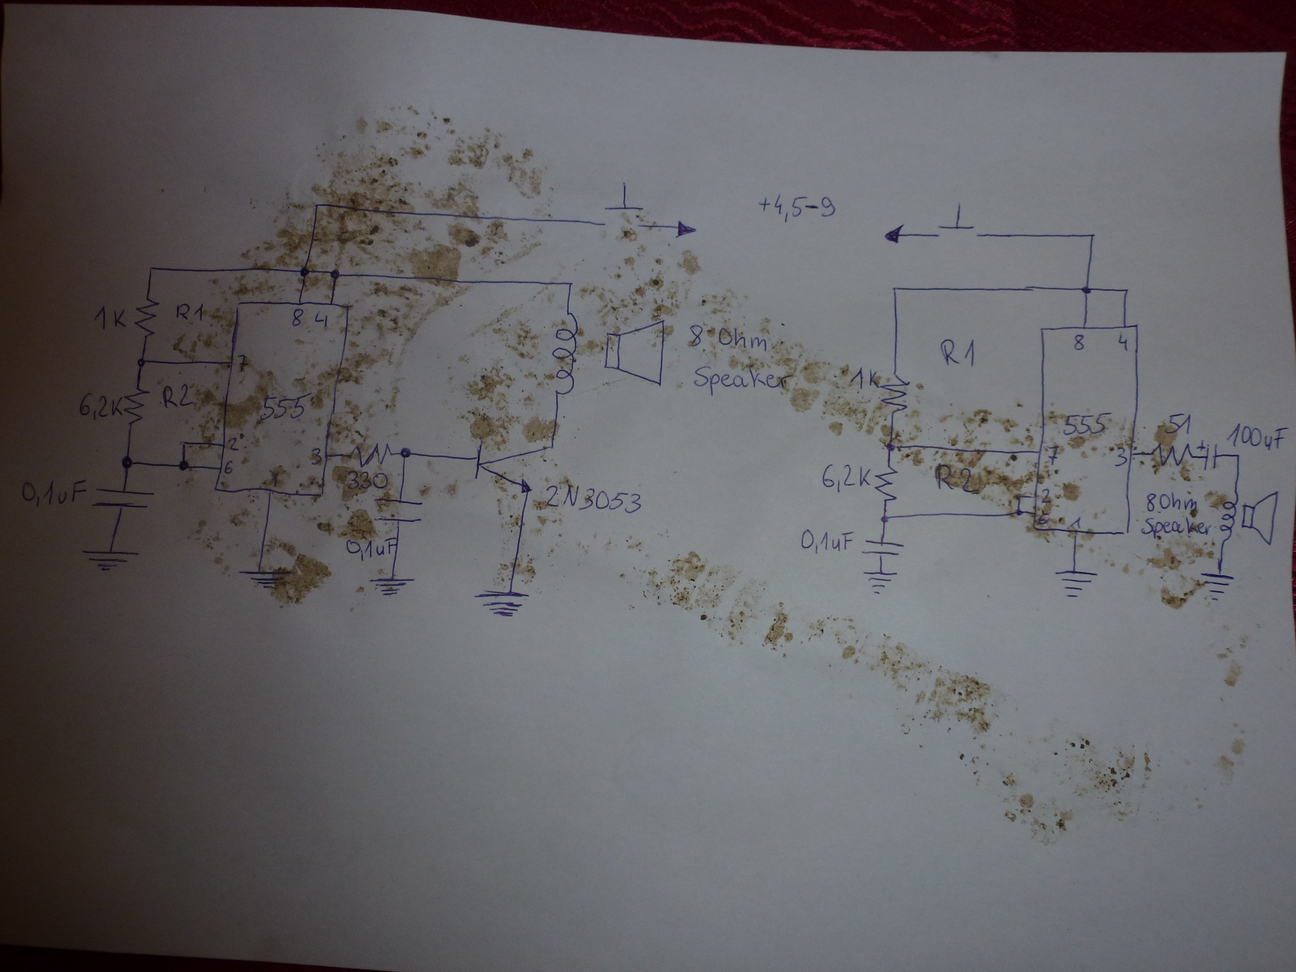capacitor.polarized: (1196, 440, 1220, 472)
capacitor.unpolarized: (90, 485, 156, 513), (373, 492, 426, 523), (859, 538, 905, 558)
gnd: (1187, 570, 1235, 605), (475, 589, 529, 621), (80, 548, 141, 576), (1052, 567, 1099, 600), (236, 567, 295, 593), (860, 565, 900, 597), (363, 575, 416, 599)
integrated_circuit: (210, 309, 357, 506), (1033, 321, 1141, 538)
junction: (879, 433, 900, 453), (397, 444, 413, 460), (119, 454, 136, 470), (1078, 282, 1093, 297), (177, 457, 190, 474), (328, 266, 342, 280), (297, 266, 310, 281), (877, 511, 892, 523), (1008, 505, 1023, 518), (563, 278, 576, 289), (888, 282, 900, 293), (135, 356, 147, 367), (1086, 230, 1098, 240), (179, 436, 189, 447), (1120, 285, 1131, 295), (1014, 491, 1025, 501), (1231, 451, 1241, 460), (146, 265, 156, 273), (312, 201, 322, 208)
resistor: (879, 370, 913, 416), (132, 293, 161, 339), (123, 385, 151, 428), (1150, 441, 1194, 468), (873, 461, 899, 503), (352, 440, 391, 467)
speaker: (548, 309, 668, 398), (1215, 489, 1280, 546)
switch: (594, 180, 647, 230), (928, 200, 986, 241)
text: (690, 318, 788, 355), (544, 481, 643, 516), (692, 364, 790, 392), (757, 191, 837, 222), (20, 478, 89, 509), (258, 389, 314, 423), (1141, 515, 1211, 540), (930, 460, 980, 496), (1228, 421, 1288, 450), (797, 527, 854, 555), (820, 463, 873, 493), (341, 533, 396, 562), (1143, 490, 1200, 517), (938, 336, 980, 371), (77, 391, 124, 421), (1061, 410, 1113, 437), (334, 468, 388, 493), (159, 382, 197, 411), (92, 304, 128, 333), (171, 301, 210, 324), (848, 363, 880, 390), (1163, 411, 1194, 436), (306, 309, 329, 329), (226, 432, 245, 452), (1112, 444, 1129, 468), (291, 306, 309, 327), (1070, 332, 1088, 352), (1043, 442, 1059, 464), (235, 352, 251, 373), (1115, 332, 1131, 351), (1039, 486, 1054, 505), (222, 458, 239, 476), (307, 445, 321, 465), (1068, 514, 1084, 530), (1037, 511, 1051, 527), (269, 470, 282, 488)
transistor: (473, 442, 556, 495)
vss: (882, 222, 908, 246), (674, 218, 698, 239)
